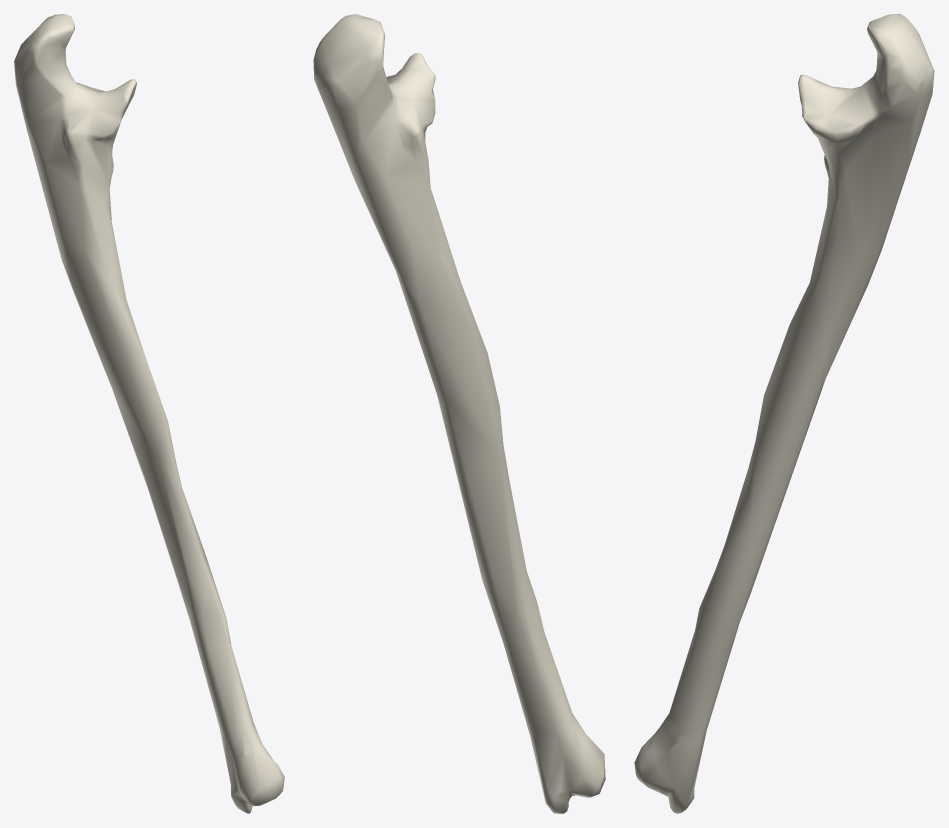
3 views of the same model, side by side, from view 1: azimuth 90°, elevation 25°; view 2: azimuth 150°, elevation 25°; view 3: azimuth 270°, elevation 25° (orthographic). The views are drawn at different scales.
Visible parts, largest first — view 1: ZA_7bf2093c9bc127c0; view 2: ZA_7bf2093c9bc127c0; view 3: ZA_7bf2093c9bc127c0.
Boxes of the visible parts, box(x1,y1,x2,y2) form: ZA_7bf2093c9bc127c0: box(14, 14, 284, 813); ZA_7bf2093c9bc127c0: box(313, 14, 605, 813); ZA_7bf2093c9bc127c0: box(634, 14, 934, 813).
Size of the model in its own units: 0.0524 by 0.2554 by 0.0832.
